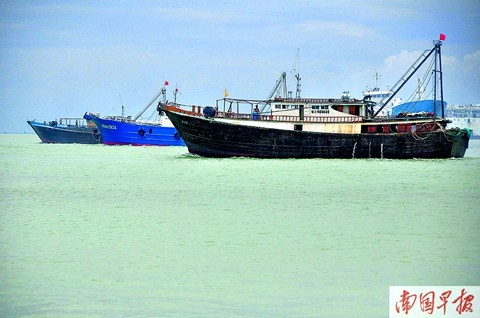otherboat: (144, 64, 477, 162), (75, 86, 226, 149), (20, 88, 176, 148)
